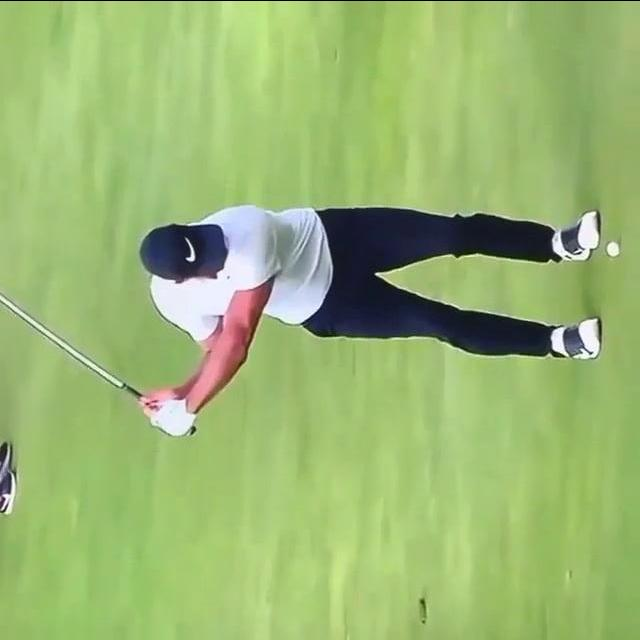golf ball: (604, 240, 620, 255)
golf club-handle: (0, 292, 199, 437)
